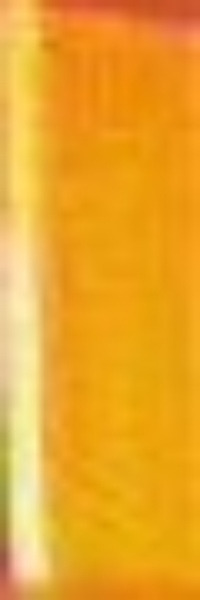Diode: (1, 1, 55, 591)
